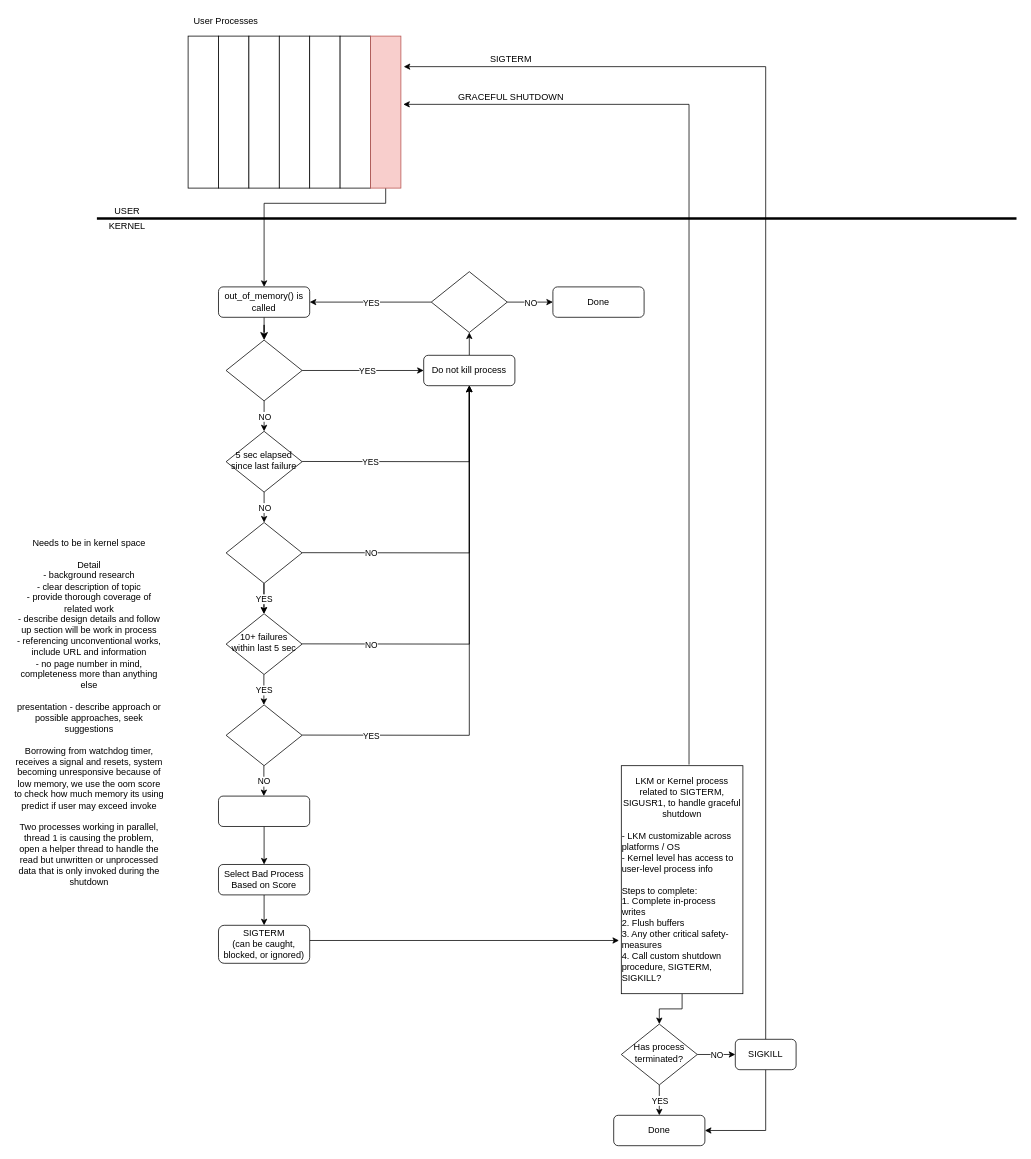
This 1031x1159 diagram has some shape labels left out. The centre of each missing label's shape, as x and y in pixels:
Failed within last second?: the point at 263,552
Has a process been killed in last 10 sec?: the point at 263,735
Is out_of_memory() called again?: the point at 469,301
Kill Process: the point at 264,810
nr_swap_pages > 0: the point at 263,370
